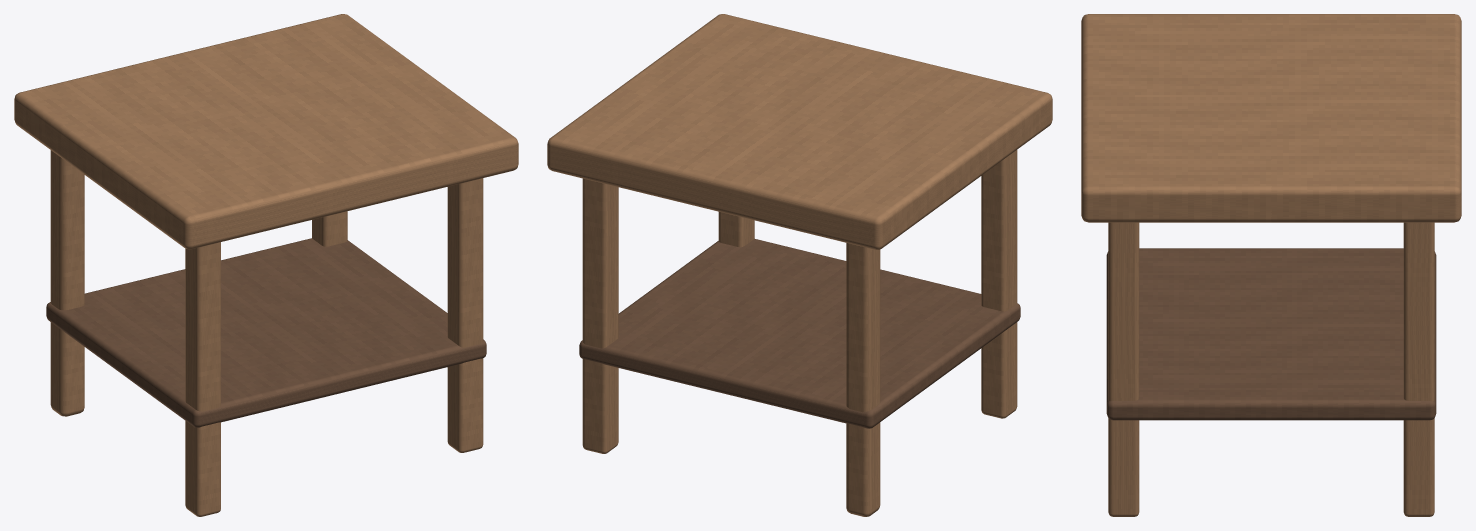
File: side_table_oak.glb
3 views of the same model, side by side, from view 1: azimuth 30°, elevation 25°; view 2: azimuth 150°, elevation 25°; view 3: azimuth 270°, elevation 25° (orthographic). The views are drawn at different scales.
Parts seen in each view (by area): view 1: OakTop, OakLowerShelf, _MeshInstance3D_4, _MeshInstance3D_2, OakLeg, _MeshInstance3D_3; view 2: OakTop, OakLowerShelf, _MeshInstance3D_3, OakLeg, _MeshInstance3D_2, _MeshInstance3D_4; view 3: OakTop, OakLowerShelf, _MeshInstance3D_3, _MeshInstance3D_4.
Boxes of the visible parts, x1=… form: OakTop: x1=14, y1=14, x2=518, y2=249; OakLowerShelf: x1=46, y1=238, x2=486, y2=427; _MeshInstance3D_4: x1=447, y1=178, x2=483, y2=452; _MeshInstance3D_2: x1=185, y1=242, x2=220, y2=516; OakLeg: x1=50, y1=150, x2=84, y2=416; _MeshInstance3D_3: x1=312, y1=211, x2=347, y2=246; OakTop: x1=547, y1=14, x2=1052, y2=249; OakLowerShelf: x1=579, y1=239, x2=1020, y2=428; _MeshInstance3D_3: x1=582, y1=178, x2=618, y2=453; OakLeg: x1=846, y1=243, x2=880, y2=516; _MeshInstance3D_2: x1=981, y1=150, x2=1017, y2=418; _MeshInstance3D_4: x1=718, y1=212, x2=754, y2=247; OakTop: x1=1081, y1=14, x2=1461, y2=222; OakLowerShelf: x1=1106, y1=248, x2=1436, y2=420; _MeshInstance3D_3: x1=1403, y1=222, x2=1434, y2=516; _MeshInstance3D_4: x1=1108, y1=222, x2=1139, y2=516.
Bounding box in the file's own units: 0.74 × 0.665 × 0.67.
Materials: 2 (2 with a texture image).
